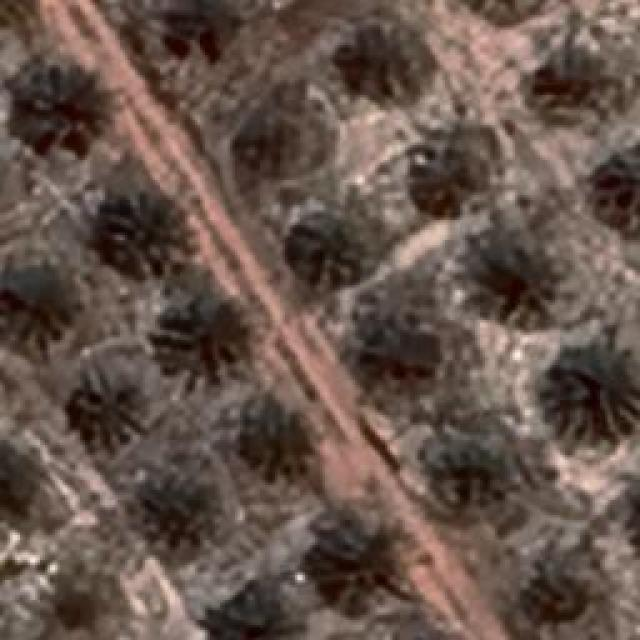PalmTree: (77, 78, 558, 597), (22, 80, 77, 480), (540, 334, 635, 448), (404, 120, 494, 210), (338, 20, 428, 108), (472, 238, 562, 324), (16, 68, 104, 152), (102, 190, 190, 272), (164, 296, 248, 379), (354, 320, 446, 392), (70, 365, 145, 450), (308, 528, 400, 596), (425, 438, 505, 516), (255, 406, 325, 489), (288, 210, 368, 282), (148, 475, 224, 550), (194, 582, 292, 640), (144, 0, 242, 58), (40, 564, 115, 638), (6, 271, 74, 351), (238, 105, 312, 175), (532, 48, 602, 118), (592, 140, 638, 232), (452, 0, 552, 25), (456, 0, 554, 17), (624, 466, 640, 564), (630, 472, 640, 566)
